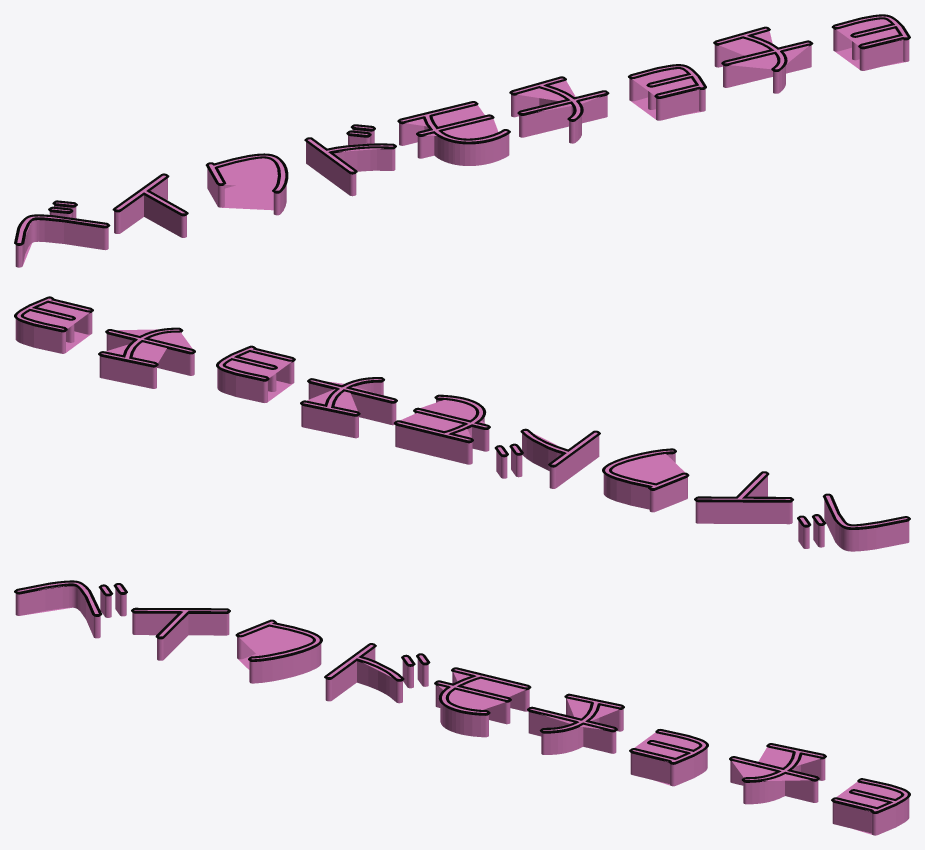
File: baked_mochocho.fbx
3 renders of one model, top to bottom at view 1: azimuth 30°, elevation 25°; view 2: azimuth 150°, elevation 25°; view 3: azimuth 330°, elevation 25°, orthographic.
Visible parts, largest first — view 1: テキスト, テキスト.001; view 2: テキスト, テキスト.001; view 3: テキスト, テキスト.001.
Part boxes in pixels (x1=…): テキスト: x1=15, y1=16, x2=909, y2=267; テキスト.001: x1=14, y1=14, x2=910, y2=245; テキスト: x1=15, y1=298, x2=909, y2=551; テキスト.001: x1=14, y1=296, x2=910, y2=529; テキスト: x1=15, y1=582, x2=909, y2=835; テキスト.001: x1=14, y1=580, x2=910, y2=813.
Size of the model in its own units: 808 by 21.26 by 79.88.
